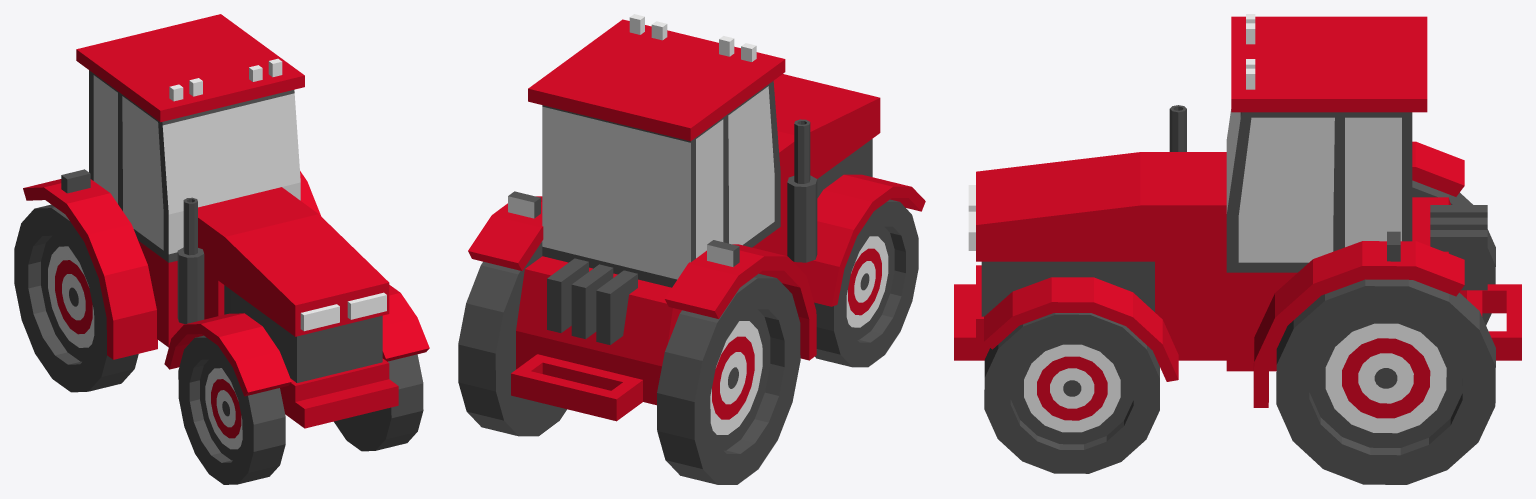
File: trator.gltf
3 views of the same model, side by side, from view 1: azimuth 30°, elevation 25°; view 2: azimuth 150°, elevation 25°; view 3: azimuth 270°, elevation 25° (orthographic). The views are drawn at different scales.
Visible parts, largest first — view 1: Tractor01_03 - Default_0, Tractor01_07 - Default_0, Tractor01_08 - Default_0, Tractor01_09 - Default_0; view 2: Tractor01_03 - Default_0, Tractor01_07 - Default_0, Tractor01_08 - Default_0, Tractor01_09 - Default_0, Tractor01_02 - Default_0; view 3: Tractor01_03 - Default_0, Tractor01_07 - Default_0, Tractor01_08 - Default_0, Tractor01_09 - Default_0.
Part boxes in pixels (x1=…): Tractor01_03 - Default_0: x1=23, y1=14, x2=429, y2=438; Tractor01_07 - Default_0: x1=14, y1=70, x2=423, y2=484; Tractor01_08 - Default_0: x1=93, y1=75, x2=300, y2=254; Tractor01_09 - Default_0: x1=48, y1=58, x2=386, y2=449; Tractor01_03 - Default_0: x1=468, y1=19, x2=925, y2=421; Tractor01_07 - Default_0: x1=458, y1=81, x2=918, y2=484; Tractor01_08 - Default_0: x1=542, y1=86, x2=774, y2=279; Tractor01_09 - Default_0: x1=629, y1=14, x2=888, y2=434; Tractor01_02 - Default_0: x1=508, y1=196, x2=733, y2=266; Tractor01_03 - Default_0: x1=954, y1=16, x2=1521, y2=420; Tractor01_07 - Default_0: x1=981, y1=105, x2=1495, y2=484; Tractor01_08 - Default_0: x1=1226, y1=109, x2=1401, y2=262; Tractor01_09 - Default_0: x1=968, y1=14, x2=1446, y2=433.
Size of the model in its own units: 0.6043 by 0.8658 by 1.16.
